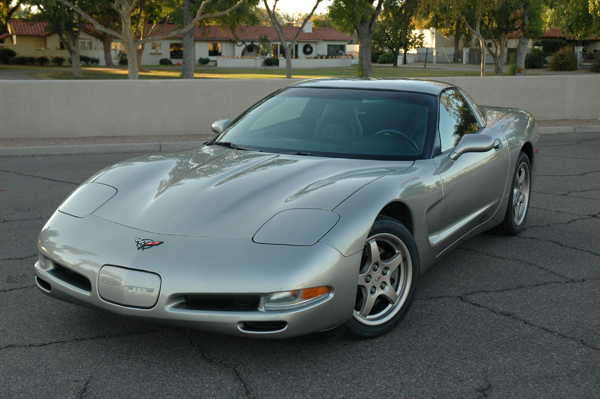car: (31, 70, 543, 348)
